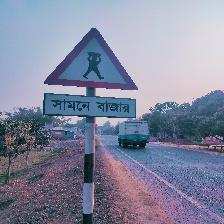Market-in-front: (43, 28, 139, 117)
